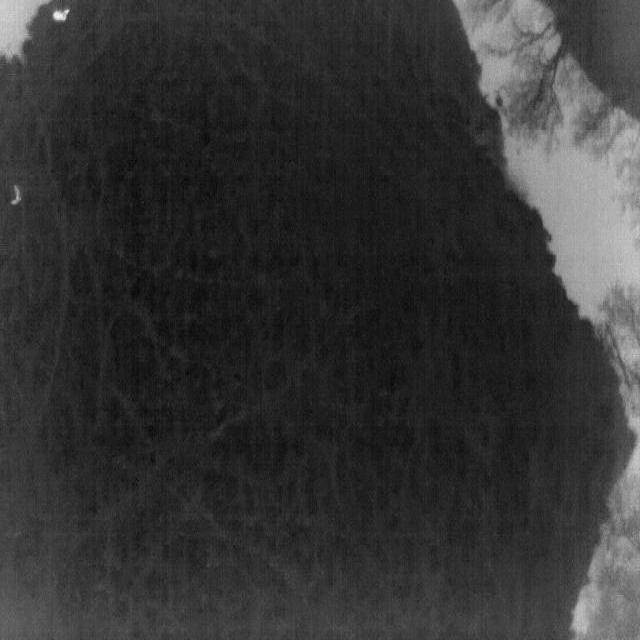deer: (52, 7, 71, 23), (10, 184, 22, 206)
